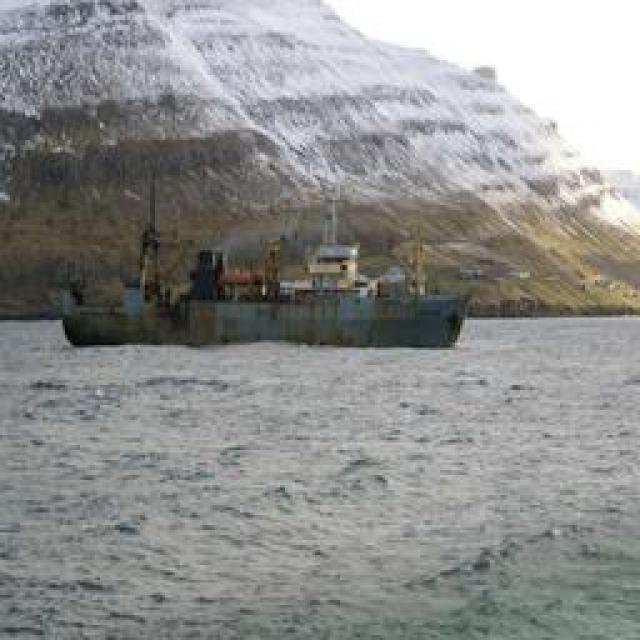Ship: (63, 245, 471, 348)
